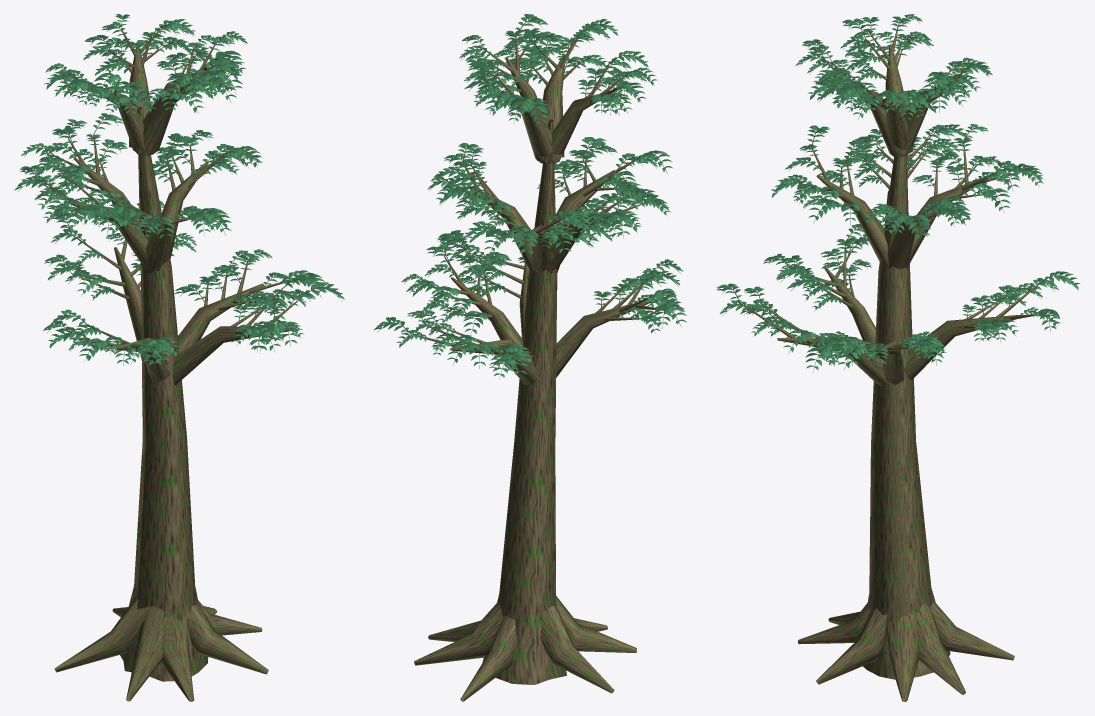
The model's file is Tiered Copperwood.glb.
3 views of the same model, side by side, from view 1: azimuth 30°, elevation 25°; view 2: azimuth 150°, elevation 25°; view 3: azimuth 270°, elevation 25° (orthographic). The views are drawn at different scales.
Visible parts, largest first — view 1: Tiered Copperwood; view 2: Tiered Copperwood; view 3: Tiered Copperwood.
Part boxes in pixels (<box>): Tiered Copperwood: <box>14,14,344,701</box>; Tiered Copperwood: <box>374,14,686,701</box>; Tiered Copperwood: <box>716,14,1079,701</box>.
Bounding box in the file's own units: 10.04 × 22.05 × 11.99.
Materials: 3 (1 with a texture image).
